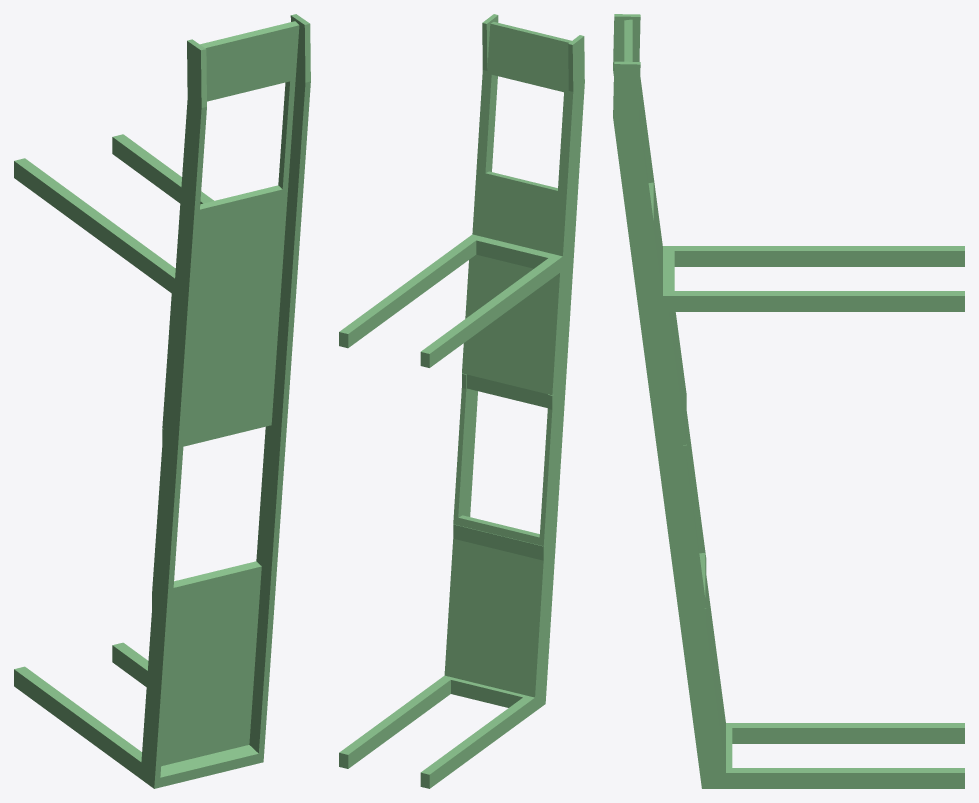
The model's file is rullo7.glb.
3 renders of one model, left to right at view 1: azimuth 30°, elevation 25°; view 2: azimuth 150°, elevation 25°; view 3: azimuth 270°, elevation 25°, orthographic. The views are drawn at different scales.
Parts seen in each view (by area): view 1: Body1; view 2: Body1; view 3: Body1.
Boxes of the visible parts, bbox=[...] form: Body1: bbox=[14, 14, 310, 788]; Body1: bbox=[339, 14, 584, 788]; Body1: bbox=[613, 14, 964, 788].
Bounding box in the file's own units: 0.02 × 0.1351 × 0.0594.
